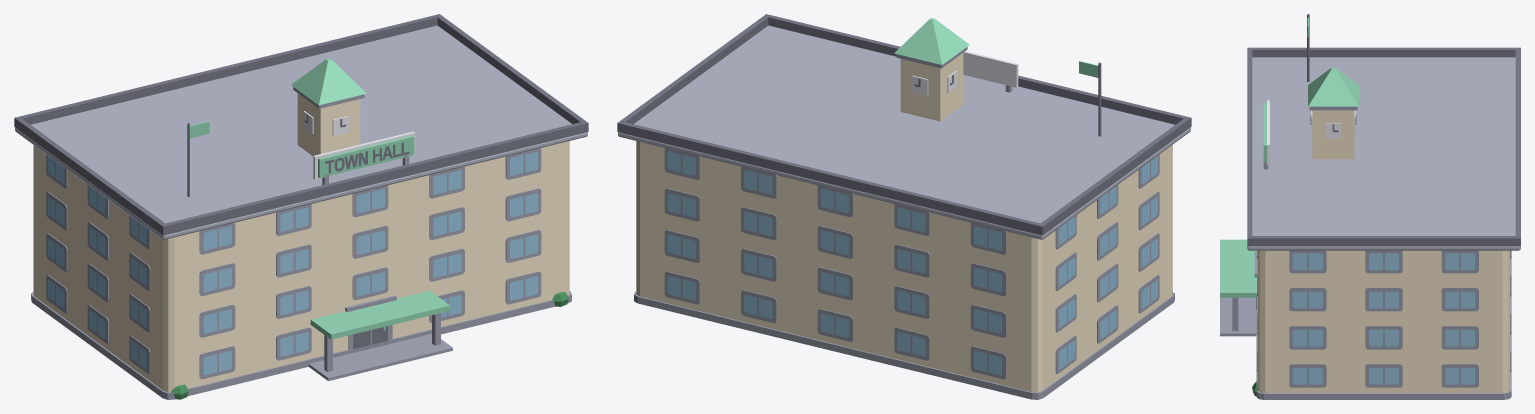
Rendered from town-hall-3x2-4f.glb.
The picture shows the model from 3 angles, left to right: view 1: azimuth 30°, elevation 25°; view 2: azimuth 150°, elevation 25°; view 3: azimuth 270°, elevation 25°; orthographic projection. The views are drawn at different scales.
Visible parts, largest first — view 1: town-hall-3x2-4f; view 2: town-hall-3x2-4f; view 3: town-hall-3x2-4f.
Boxes of the visible parts, x1,y1,x2,y2 form: town-hall-3x2-4f: (14, 14, 588, 399); town-hall-3x2-4f: (617, 14, 1191, 399); town-hall-3x2-4f: (1220, 14, 1520, 399).
Bounding box in the file's own units: 3 × 1.76 × 2.
1 material, 1 textured.
